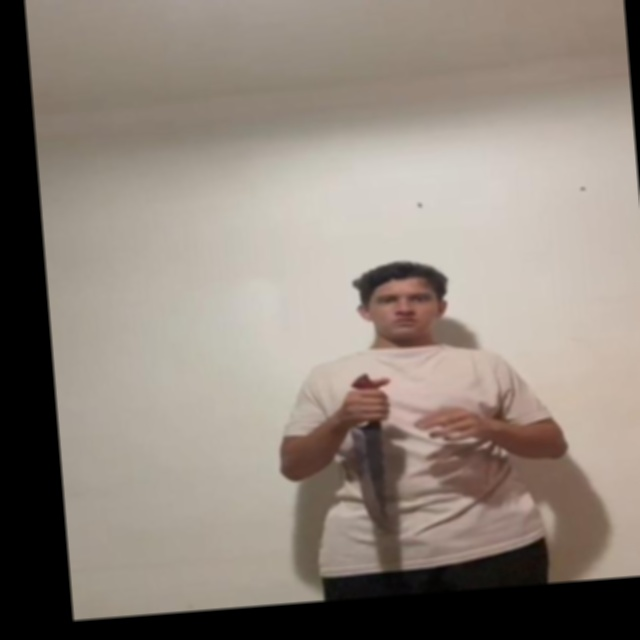Sharp-Object: (349, 423, 390, 531)
